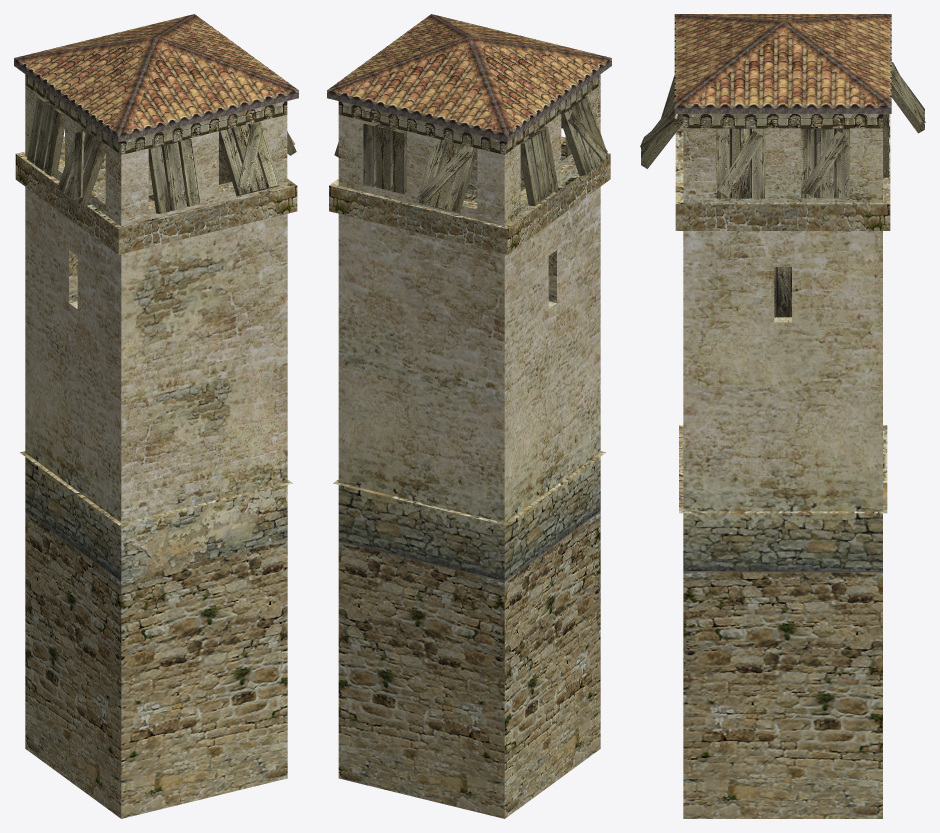
Rendered from athen_wall_tower.dae.
3 renders of one model, left to right at view 1: azimuth 30°, elevation 25°; view 2: azimuth 150°, elevation 25°; view 3: azimuth 270°, elevation 25°, orthographic. The views are drawn at different scales.
Parts seen in each view (by area): view 1: athen_wall_tower; view 2: athen_wall_tower; view 3: athen_wall_tower.
Part boxes in pixels (x1,y1,x2,y2): athen_wall_tower: [14, 14, 298, 818]; athen_wall_tower: [327, 14, 611, 818]; athen_wall_tower: [640, 14, 925, 818].
Size of the model in its own units: 9.32 by 10.16 by 29.62.
